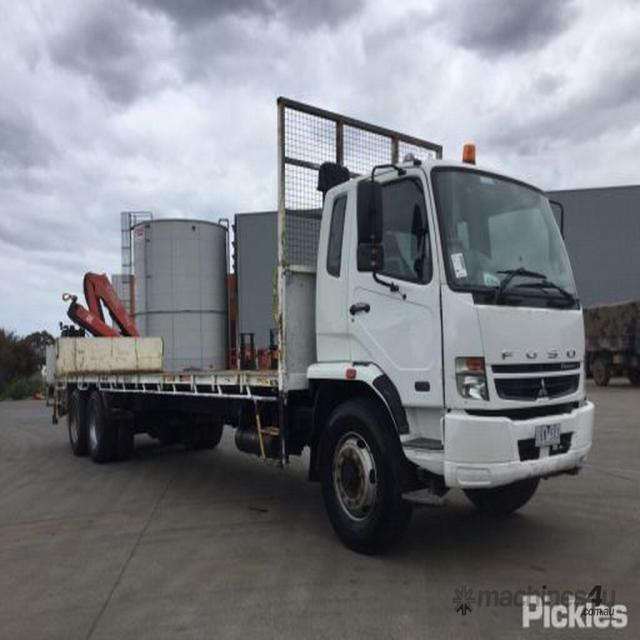truck: (41, 97, 594, 549)
